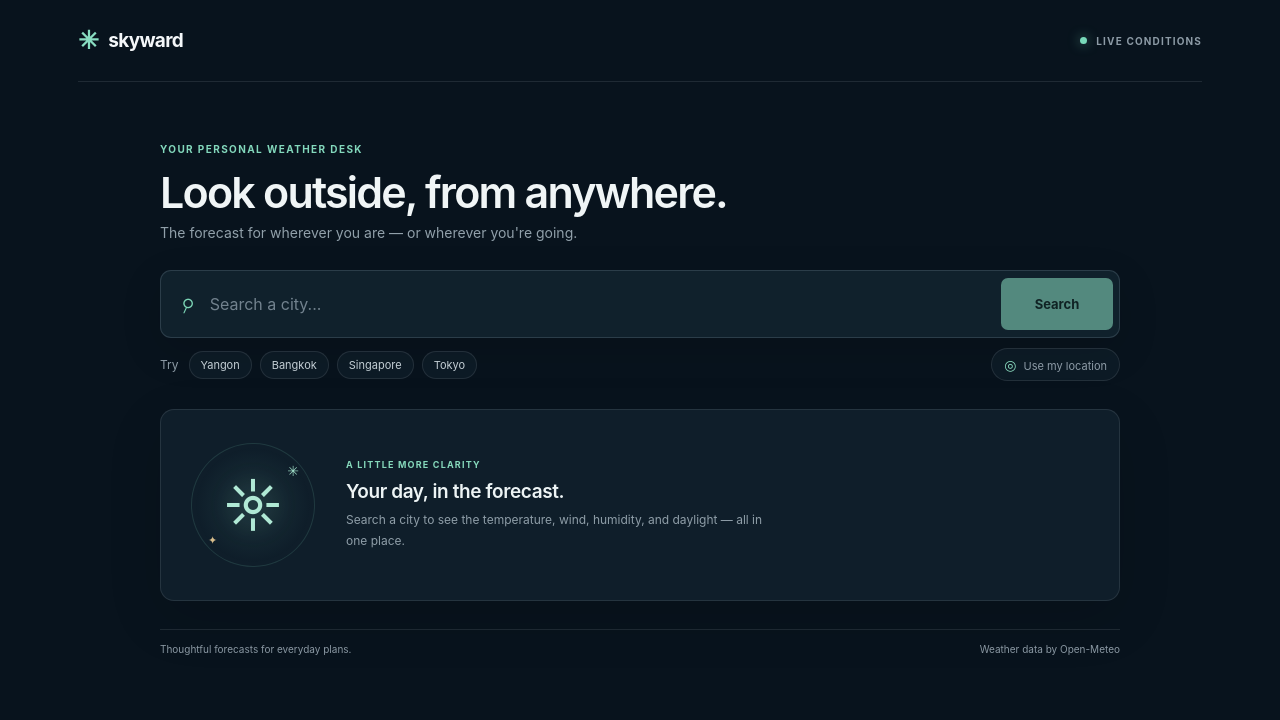
Test case: shows a useful message when city search returns no matches
The width and height of the screenshot is (1280, 720).
In the field named "Search for a city": [598, 304] box [208, 293, 989, 315], type "Not a real place"
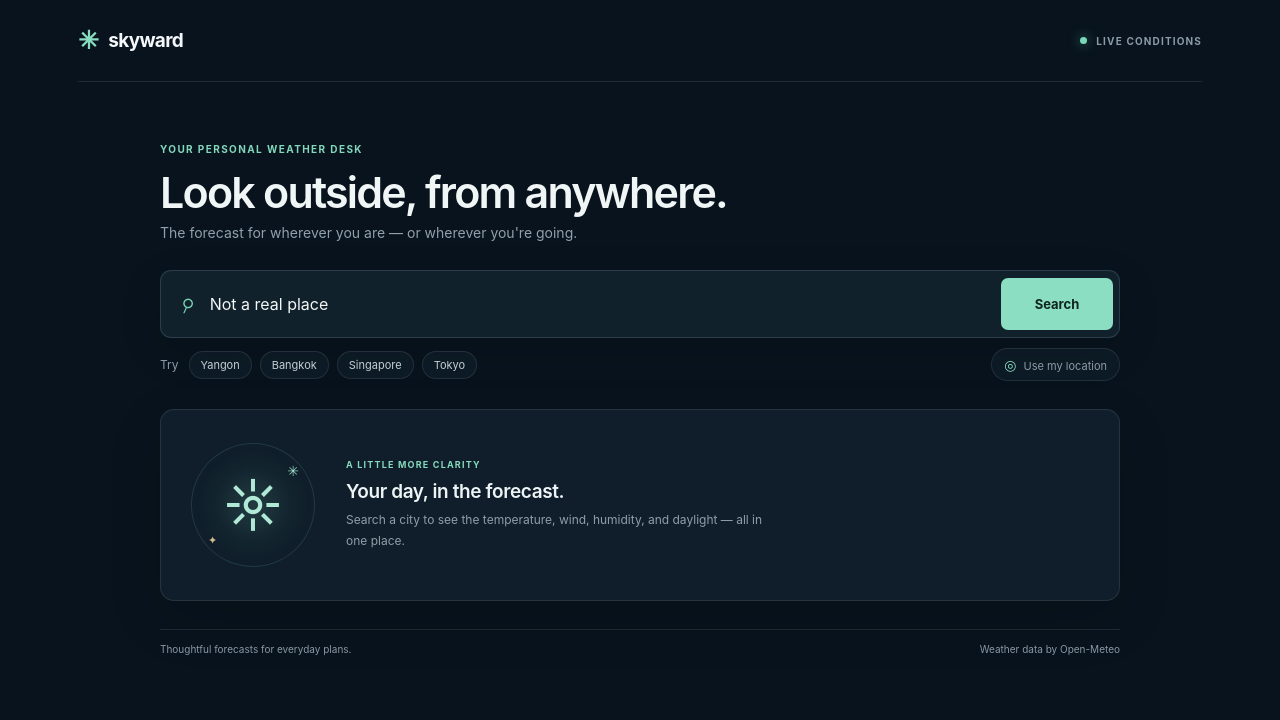
Click the button "Search": [1057, 304] box [1001, 278, 1113, 330]
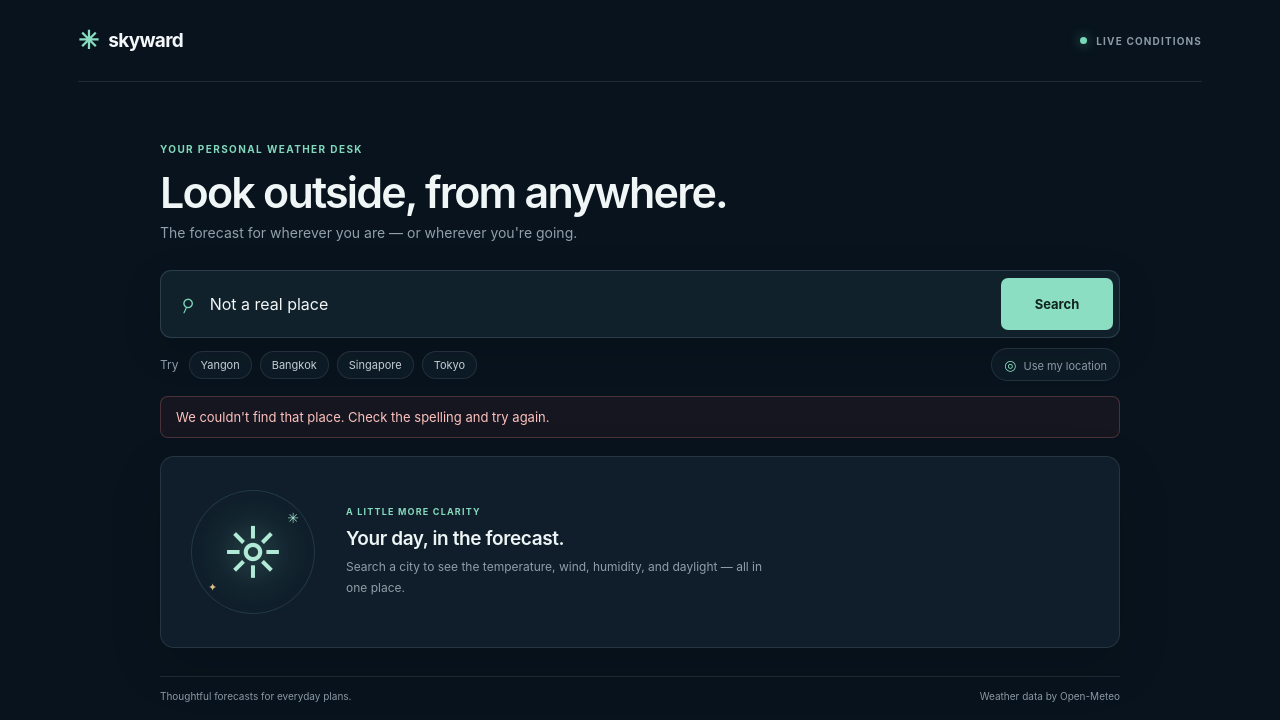
expect the message shows "We couldn't find that place": met, box [176, 409, 550, 425]
